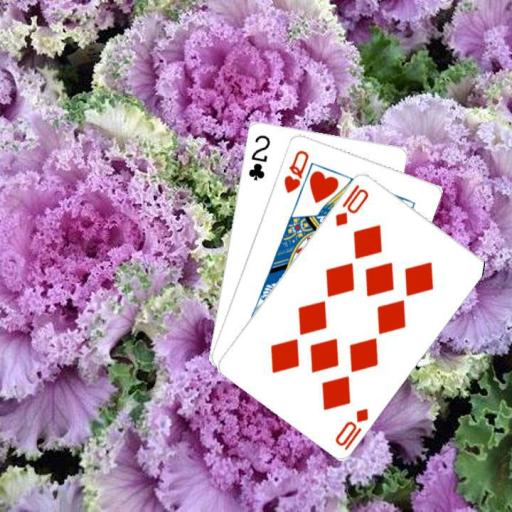10D: (332, 181, 371, 228), (332, 404, 371, 451)
2C: (245, 131, 272, 181)
QH: (280, 147, 310, 194)
